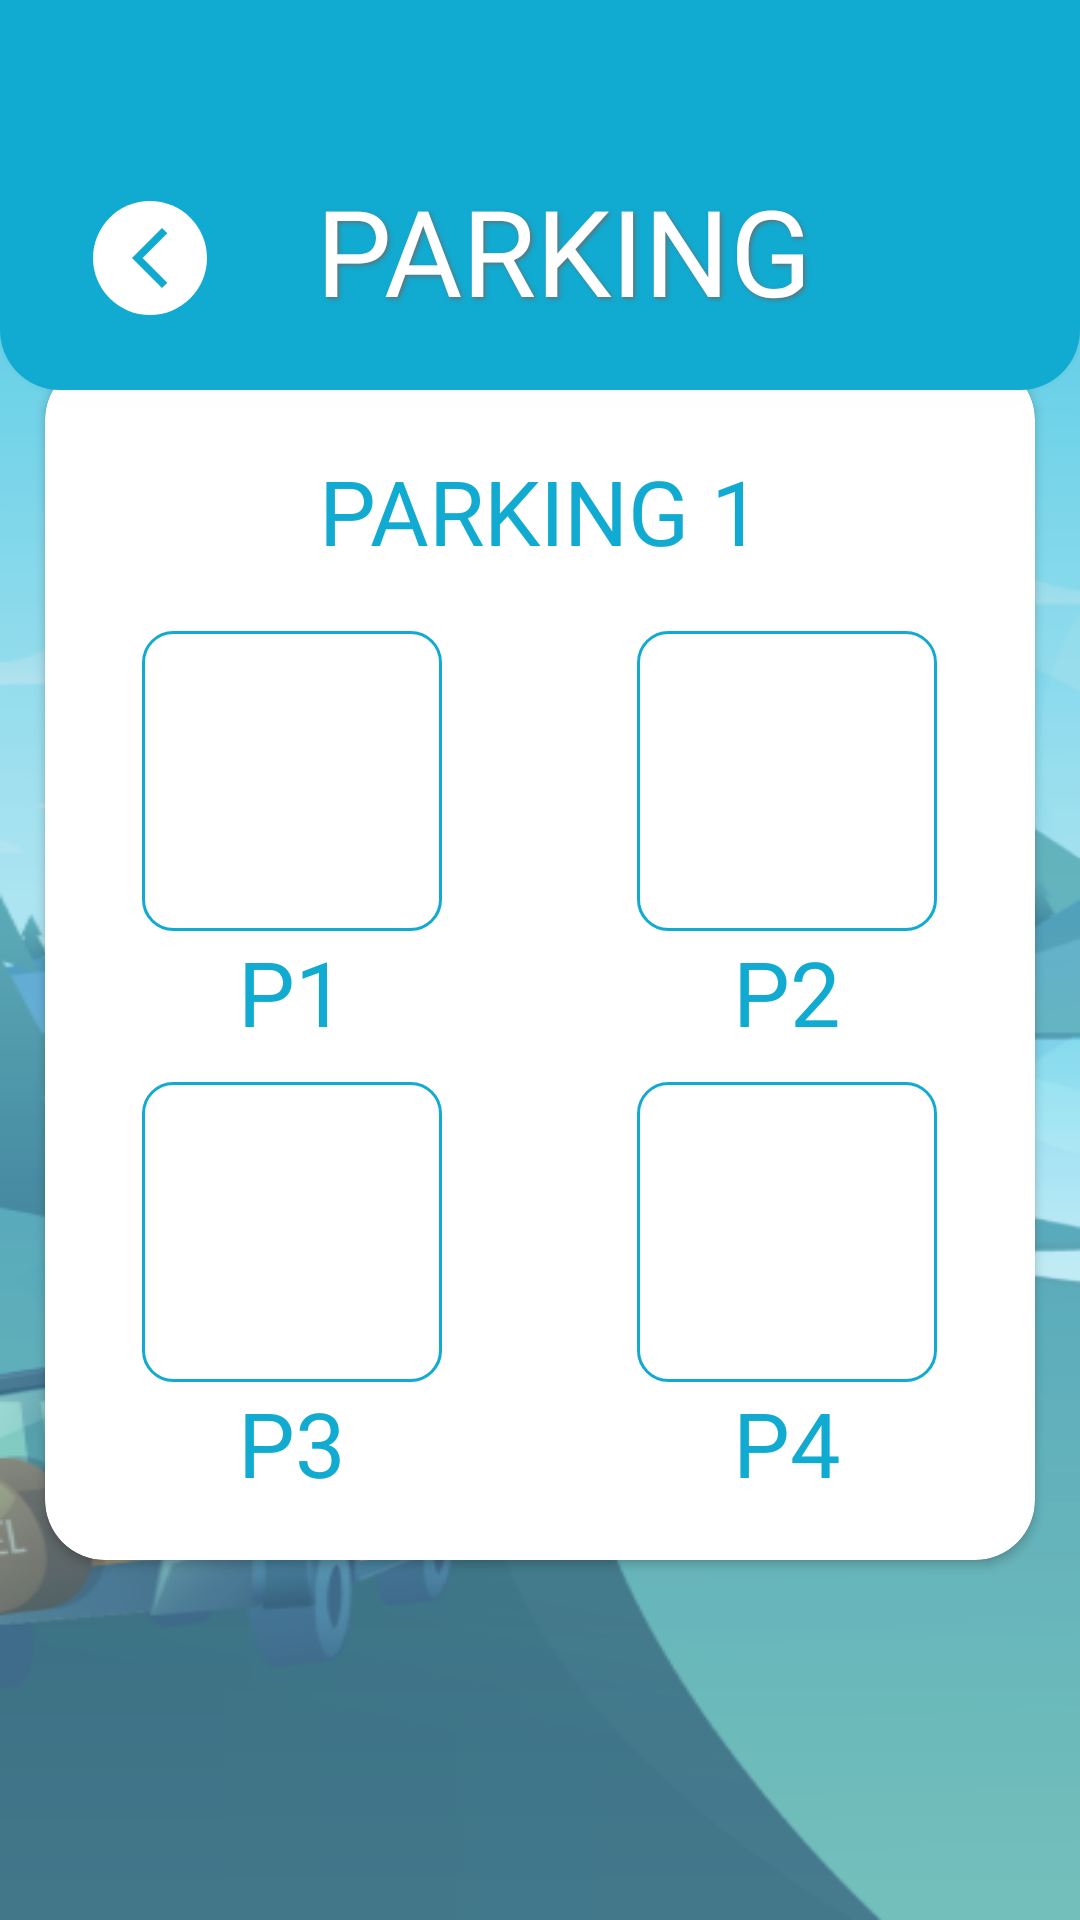

Point at icon controls on the screen. Image size 1080*1920, points as (x=x, y=y).
arrow back: (x=150, y=258)
